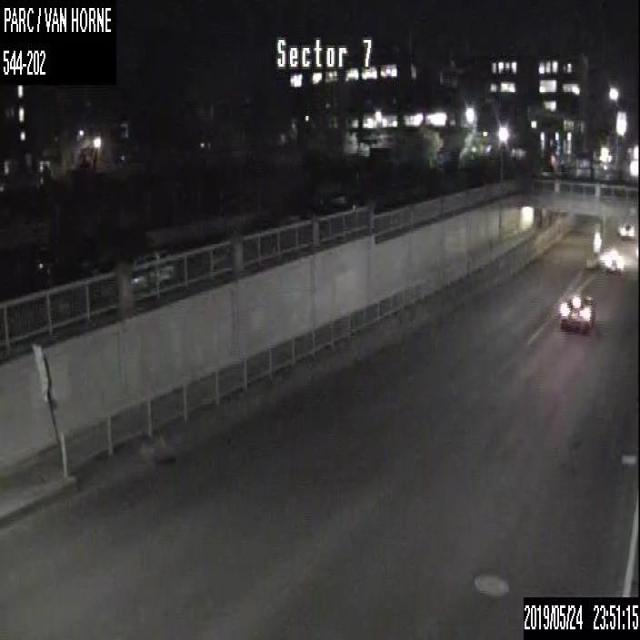vehicle: (129, 245, 174, 289), (558, 292, 595, 330), (604, 249, 622, 273), (618, 221, 634, 238)
